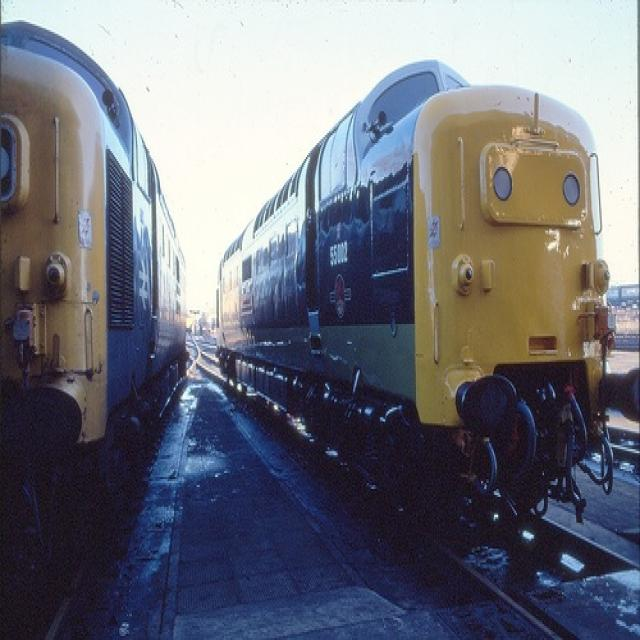train: (218, 48, 620, 544), (0, 8, 191, 580)
